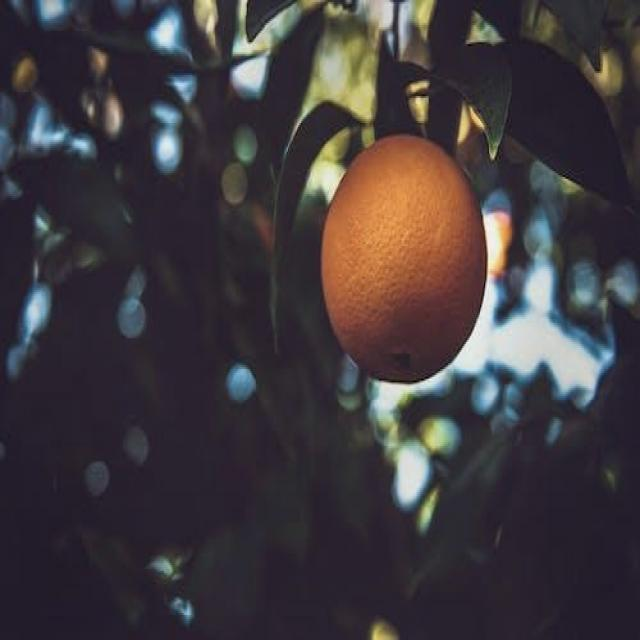Jeruk Sudah Matang: (318, 130, 488, 387)
